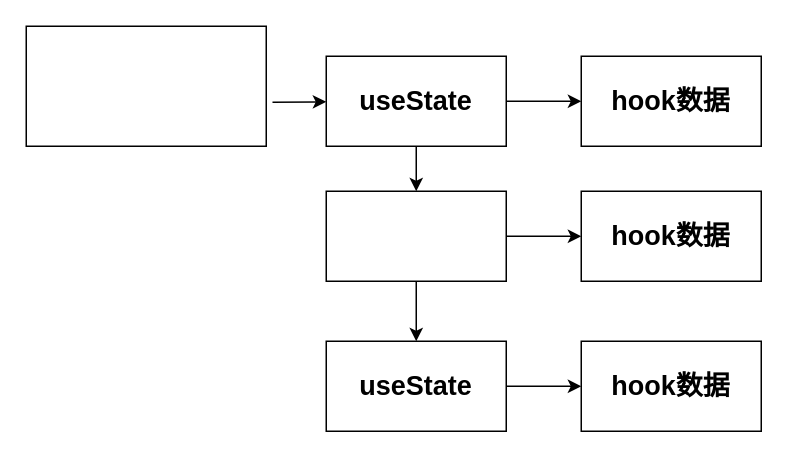
Some shapes in this 788 by 458 pixel diagram are drawn without their labels. Each missing label, with the centre of its shape:
"FC fiberNode memoizedState" belongs at pixel 145 85.
"useEffect" belongs at pixel 415 235.
